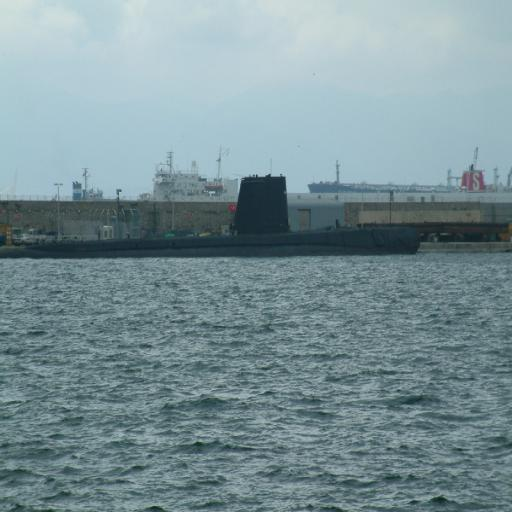submarine: (28, 177, 429, 261)
